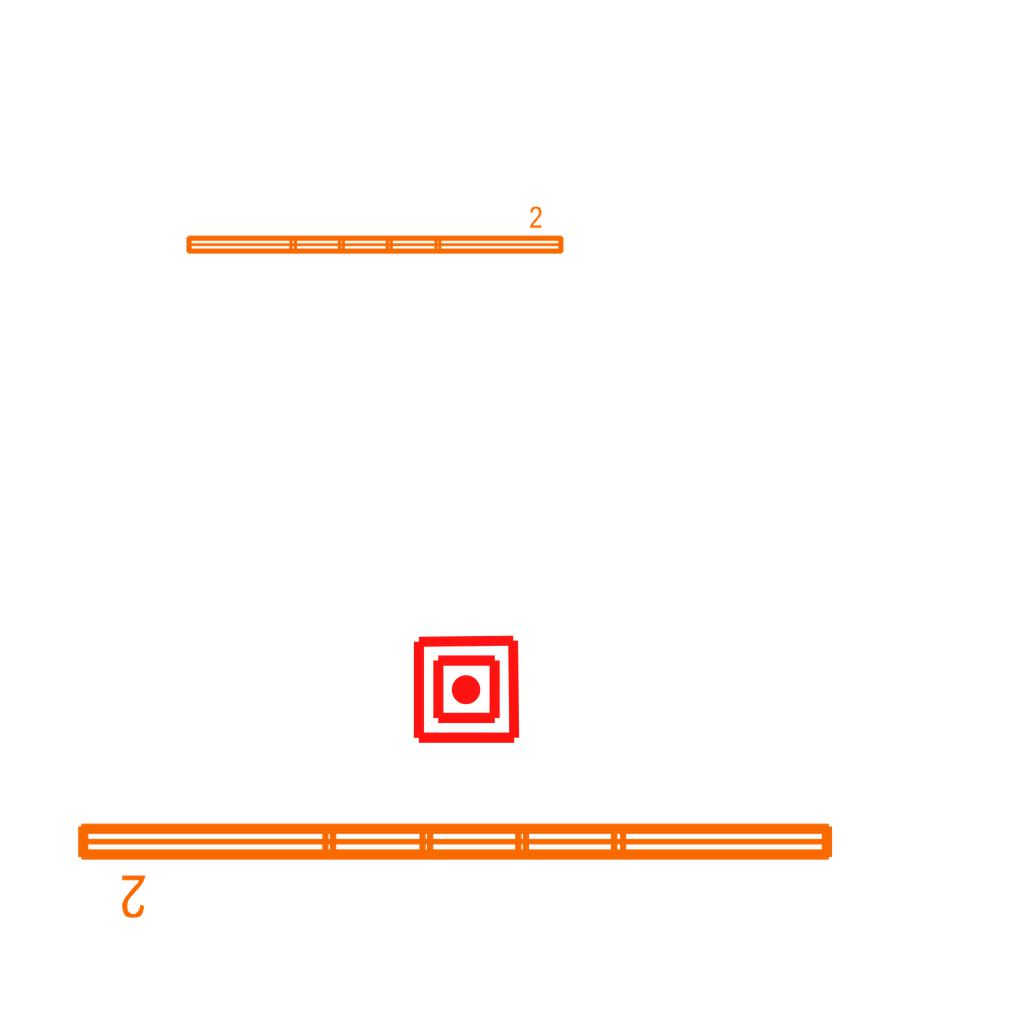Ambulanz_Pendelleuchte_LED: (69, 811, 843, 923), (181, 204, 568, 260)
NAM-Nichtautomatischer_Melder: (410, 633, 523, 746)
